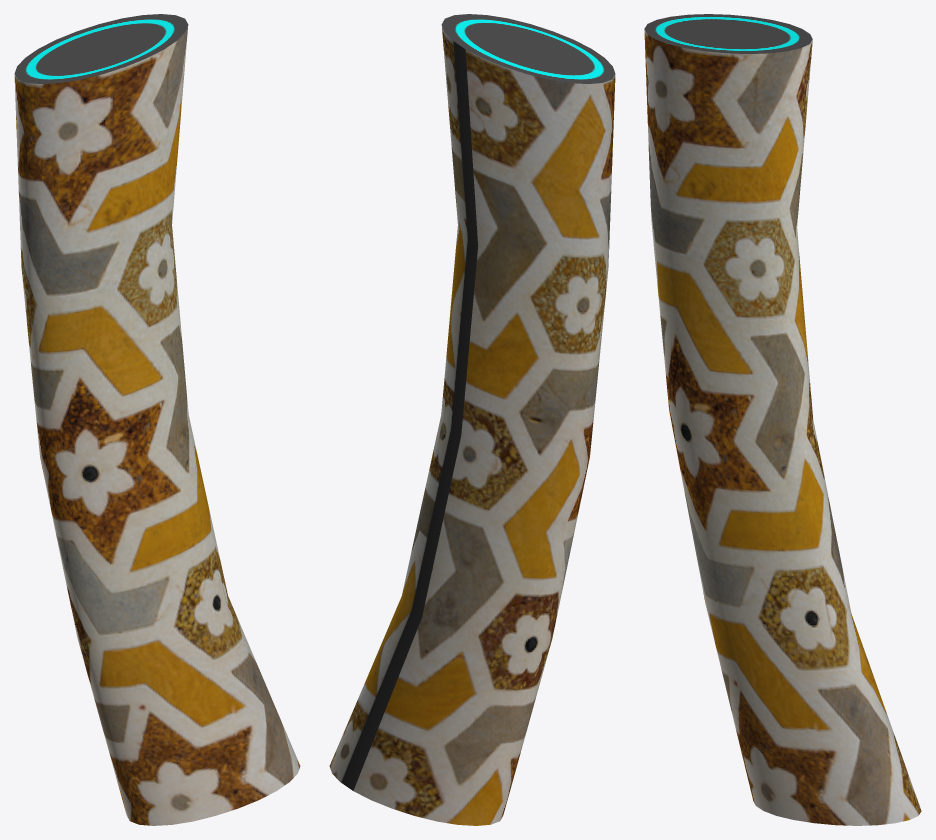
The model's file is handle_503.fbx.
3 renders of one model, left to right at view 1: azimuth 30°, elevation 25°; view 2: azimuth 150°, elevation 25°; view 3: azimuth 330°, elevation 25°, orthographic. The views are drawn at different scales.
Visible parts, largest first — view 1: handle_503; view 2: handle_503; view 3: handle_503.
Boxes of the visible parts, box(x1,y1,x2,y2) form: handle_503: box(14, 14, 300, 825); handle_503: box(329, 14, 615, 825); handle_503: box(644, 14, 921, 825).
Size of the model in its own units: 2.8 by 7.55 by 0.8431.
